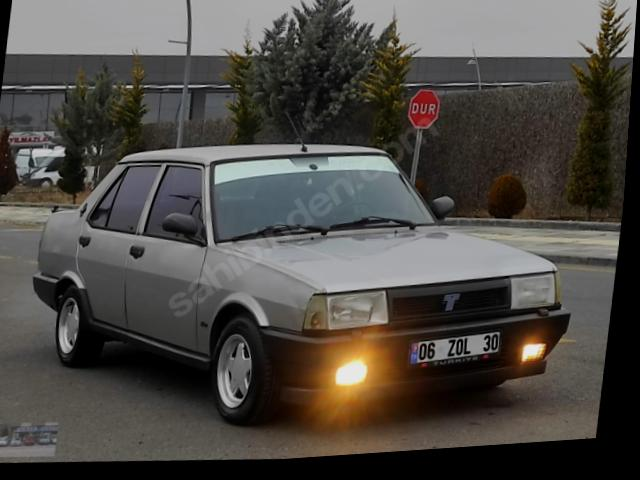plaka: (409, 331, 500, 364)
